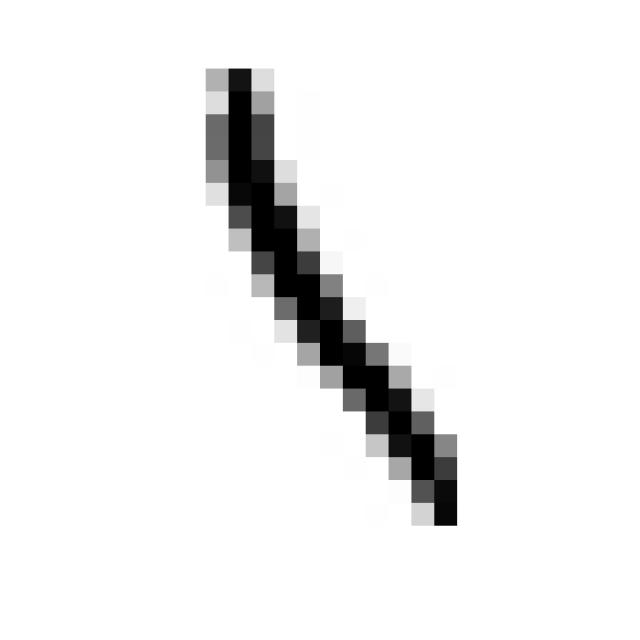1 -one-: (187, 48, 474, 544)
